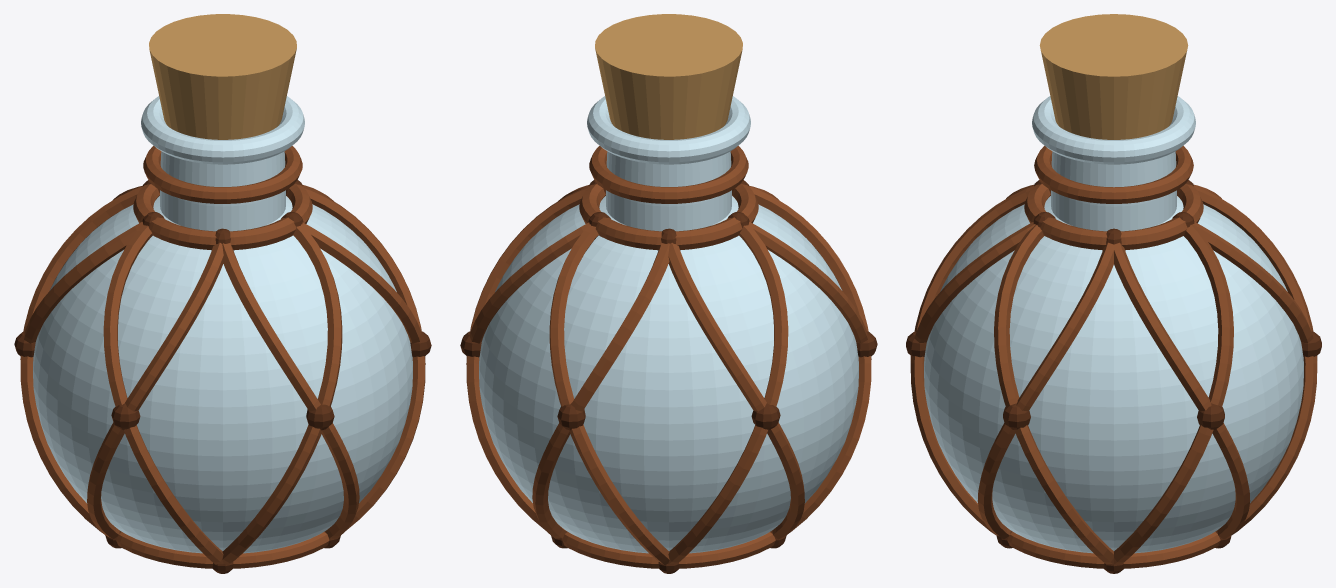
The model's file is ManaPotion.ready.glb.
3 renders of one model, left to right at view 1: azimuth 30°, elevation 25°; view 2: azimuth 150°, elevation 25°; view 3: azimuth 270°, elevation 25°, orthographic.
Parts seen in each view (by area): view 1: Glass, ManaPotion; view 2: Glass, ManaPotion; view 3: Glass, ManaPotion.
Part boxes in pixels (x1,y1,x2,y2): Glass: (33,96,412,553); ManaPotion: (14,14,431,573); Glass: (479,96,858,553); ManaPotion: (460,14,877,573); Glass: (924,96,1303,553); ManaPotion: (906,14,1321,573).
Bounding box in the file's own units: 1.7 × 2.41 × 1.85.
1 material, 1 textured.
